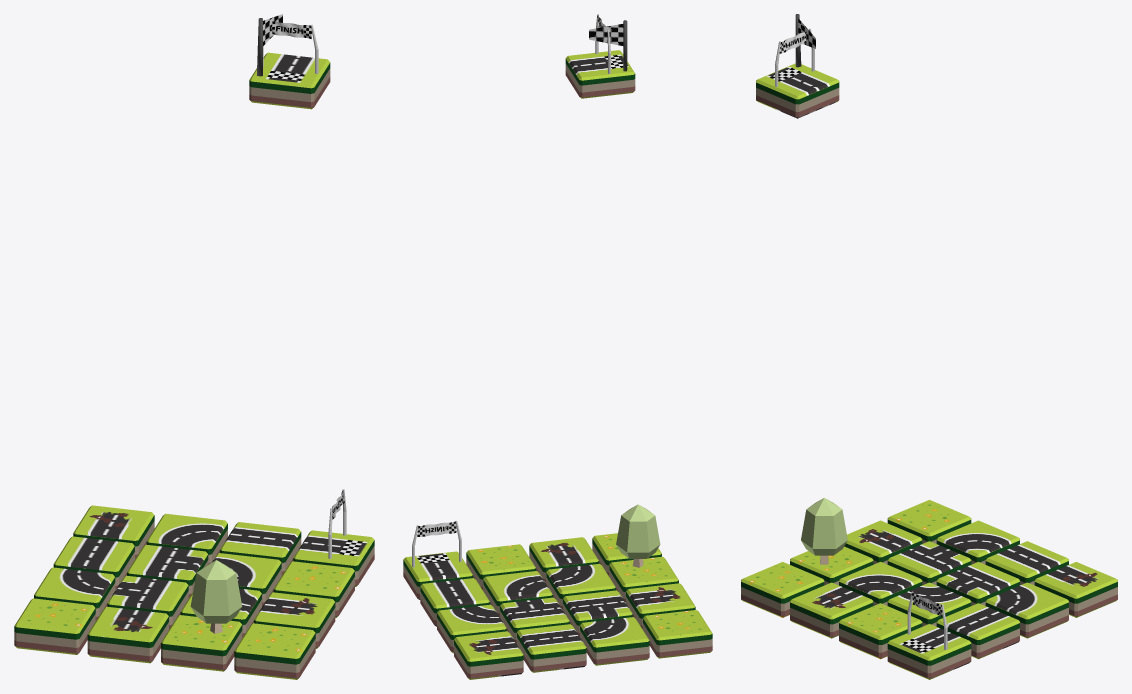
Rendered from terrain.842010e4.gltf.
The picture shows the model from 3 angles, left to right: view 1: azimuth 30°, elevation 25°; view 2: azimuth 150°, elevation 25°; view 3: azimuth 270°, elevation 25°; orthographic projection. The views are drawn at different scales.
Visible parts, largest first — view 1: flowerscube.004, end.001, flowerscube.002, end tile.001, flowerscube.003, roadTile_020, end.002, flowerscube.005, end tile, straight, turn.003, end.003 (+8 smaller); view 2: end.003, straight.002, turn.003, flowerscube.002, end tile.001, roadTile_020, straight, turn.002, end tile, end.002, flowerscube.005, end.001 (+7 smaller); view 3: end tile, end tile.001, end.003, flowerscube.004, end.002, turn.002, straight, flowerscube.005, roadTile_020, flowerscube.002, carrefour.002, carrefour.001 (+6 smaller).
Boxes of the visible parts, x1,y1,x2,y2 form: flowerscube.004: [234, 623, 315, 679]; end.001: [87, 606, 168, 663]; flowerscube.002: [14, 598, 95, 654]; end tile.001: [249, 52, 330, 109]; flowerscube.003: [161, 615, 242, 671]; roadTile_020: [190, 560, 242, 633]; end.002: [254, 592, 335, 648]; flowerscube.005: [273, 561, 354, 617]; end tile: [293, 530, 374, 586]; straight: [220, 522, 301, 575]; turn.003: [34, 567, 115, 620]; end.003: [73, 505, 154, 558]; end.003: [454, 631, 523, 679]; straight.002: [517, 624, 586, 672]; turn.003: [580, 617, 649, 665]; flowerscube.002: [643, 610, 712, 658]; end tile.001: [565, 50, 635, 98]; roadTile_020: [616, 504, 660, 567]; straight: [420, 578, 489, 626]; turn.002: [437, 604, 506, 653]; end tile: [403, 551, 472, 599]; end.002: [529, 537, 598, 583]; flowerscube.005: [466, 544, 535, 590]; end.001: [626, 583, 695, 629]; end tile: [887, 624, 971, 679]; end tile.001: [756, 63, 839, 118]; end.003: [1034, 562, 1117, 617]; flowerscube.004: [741, 562, 824, 617]; end.002: [790, 582, 873, 638]; turn.002: [985, 582, 1068, 638]; straight: [936, 603, 1019, 659]; flowerscube.005: [839, 603, 922, 659]; roadTile_020: [801, 498, 847, 564]; flowerscube.002: [887, 500, 971, 543]; carrefour.002: [887, 541, 971, 585]; carrefour.001: [936, 562, 1019, 605].
Size of the model in its own units: 5.99 by 10.24 by 5.99.
Materials: 15 (9 with a texture image).
